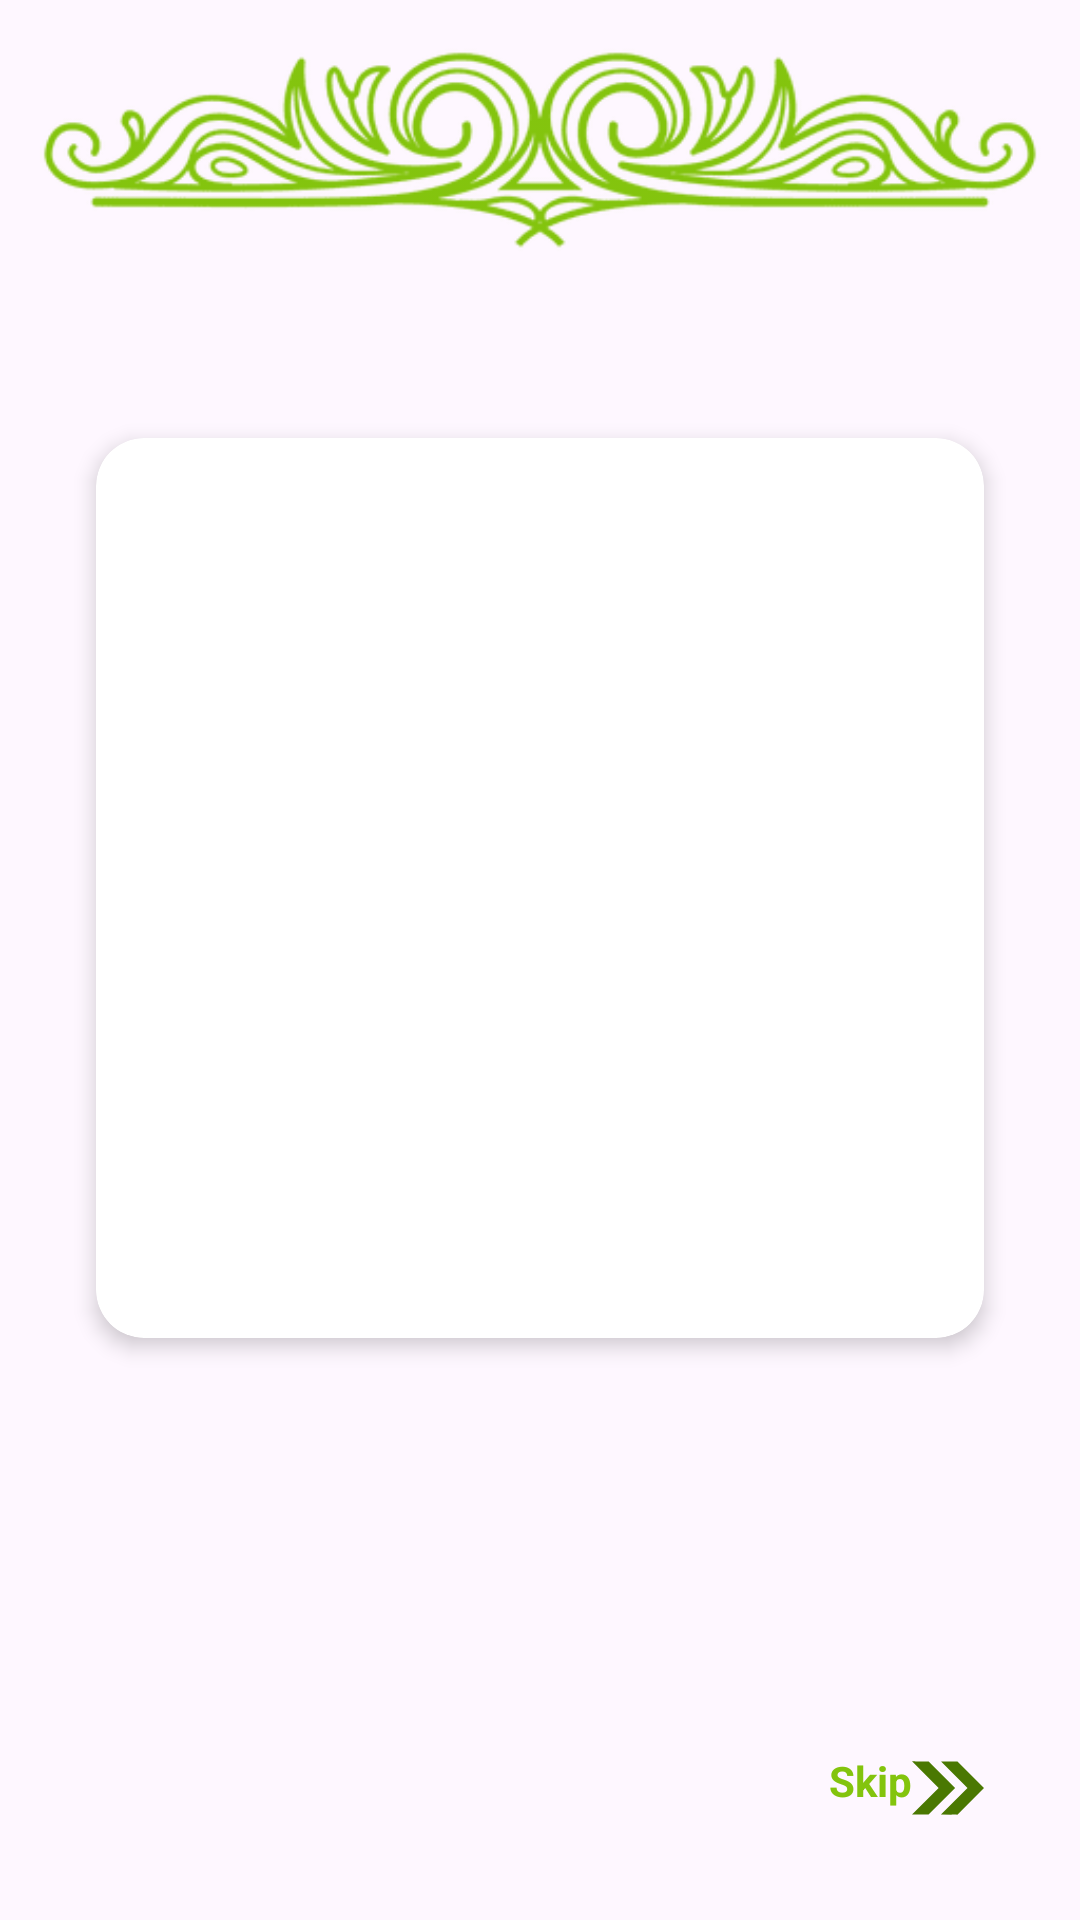

Screen size 1080 × 1920. Icon name, then its center in pixels as (x,y):
noun arrow right: (948,1788)
